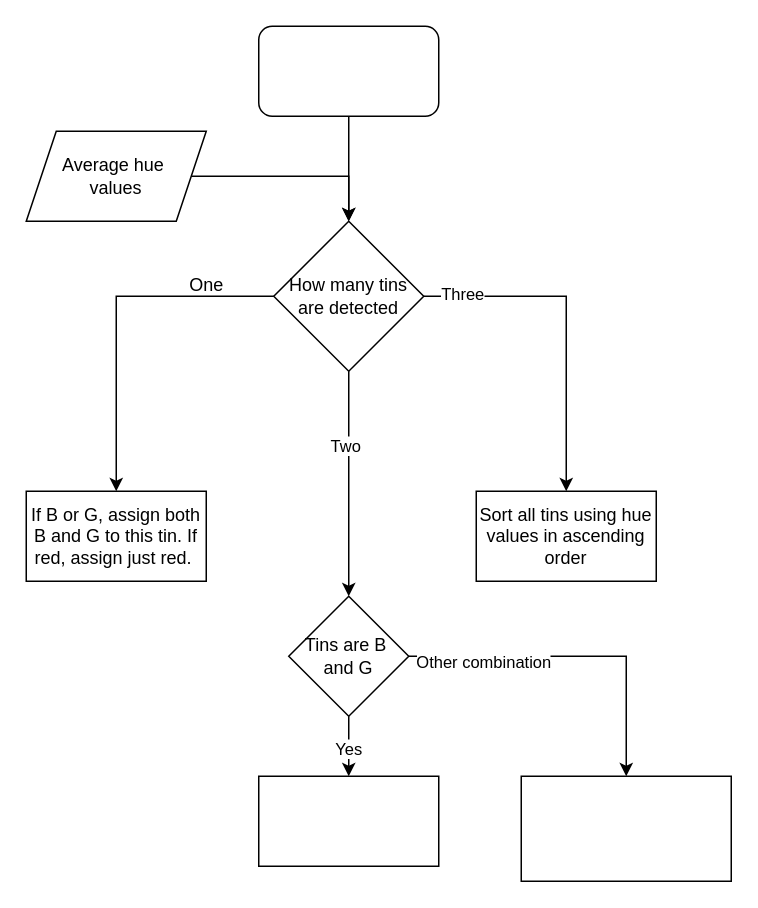
This 758x908 diagram has some shape labels left out. Each missing label, with the centre of its shape:
Sort values: (x=348, y=820)
Sorting is very difficult. The tins which is not R is B and G at the same time: (x=625, y=828)
Tin sorting: (x=348, y=70)
